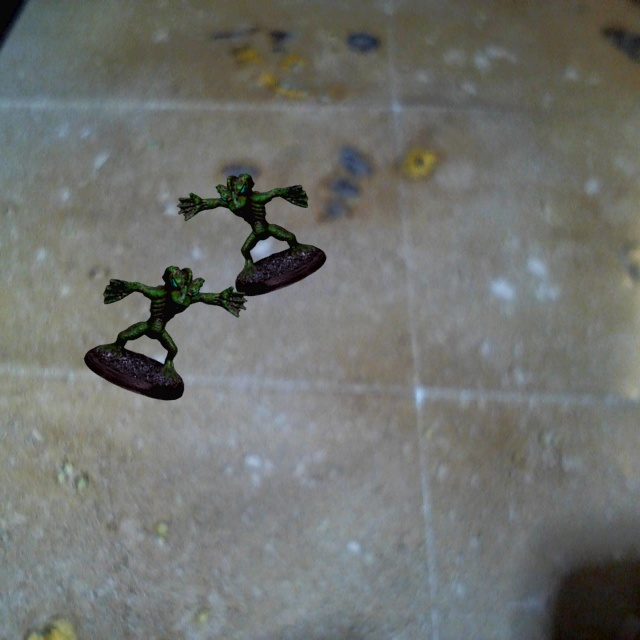pieza_juego: (84, 266, 247, 400), (177, 173, 326, 295)
